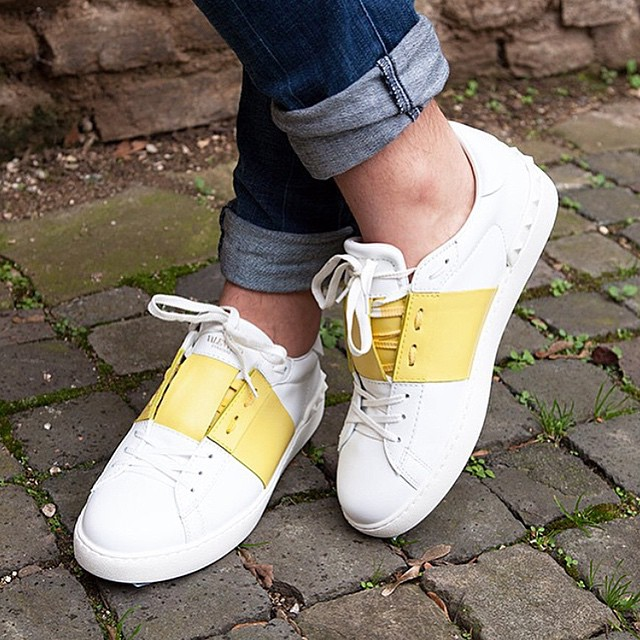sneaker: (300, 77, 575, 555), (46, 278, 342, 601)
